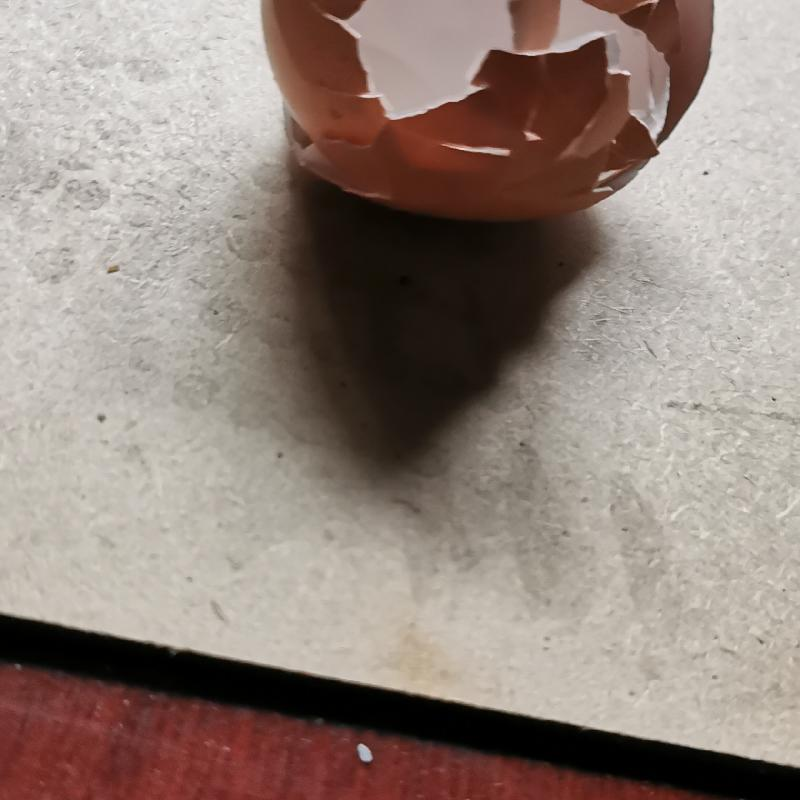eggshell: (250, 1, 719, 219)
